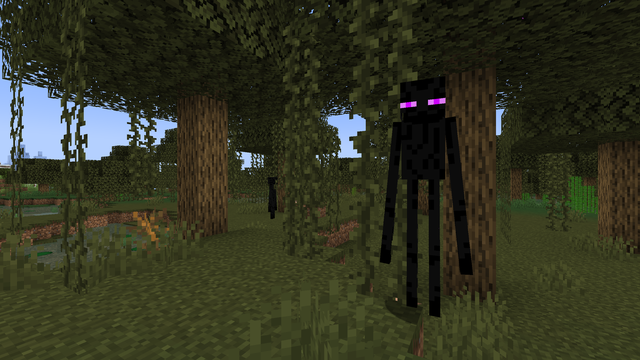endermens: (393, 65, 450, 324), (266, 175, 278, 218)
